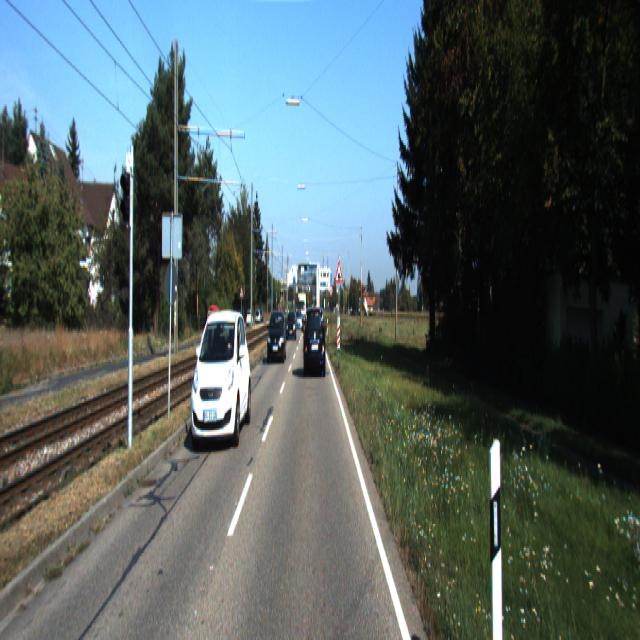Car: (190, 307, 253, 451), (304, 305, 326, 378), (268, 308, 286, 363), (207, 303, 220, 335), (286, 310, 297, 340)
